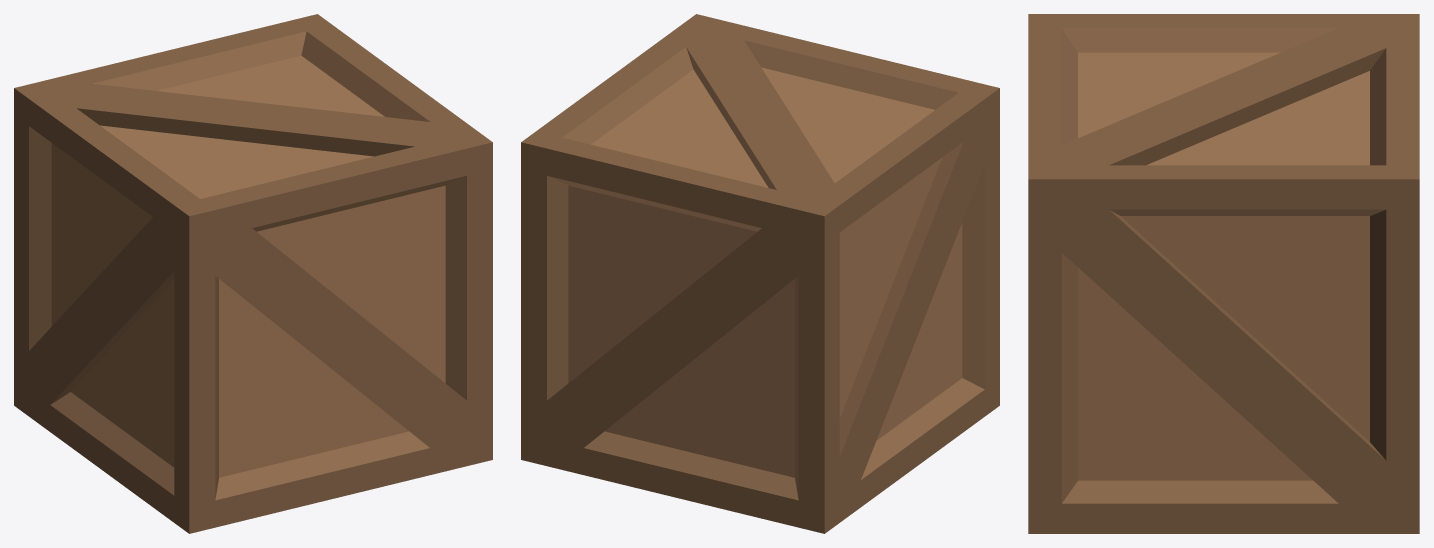
The model's file is SmallBox.fbx.
The picture shows the model from 3 angles, left to right: view 1: azimuth 30°, elevation 25°; view 2: azimuth 150°, elevation 25°; view 3: azimuth 270°, elevation 25°; orthographic projection. The views are drawn at different scales.
Visible parts, largest first — view 1: SmallBox; view 2: SmallBox; view 3: SmallBox.
Boxes of the visible parts, box(x1,y1,x2,y2) form: SmallBox: box(14, 14, 492, 533); SmallBox: box(521, 14, 999, 533); SmallBox: box(1028, 14, 1419, 533).
Size of the model in its own units: 50 by 50 by 50.
